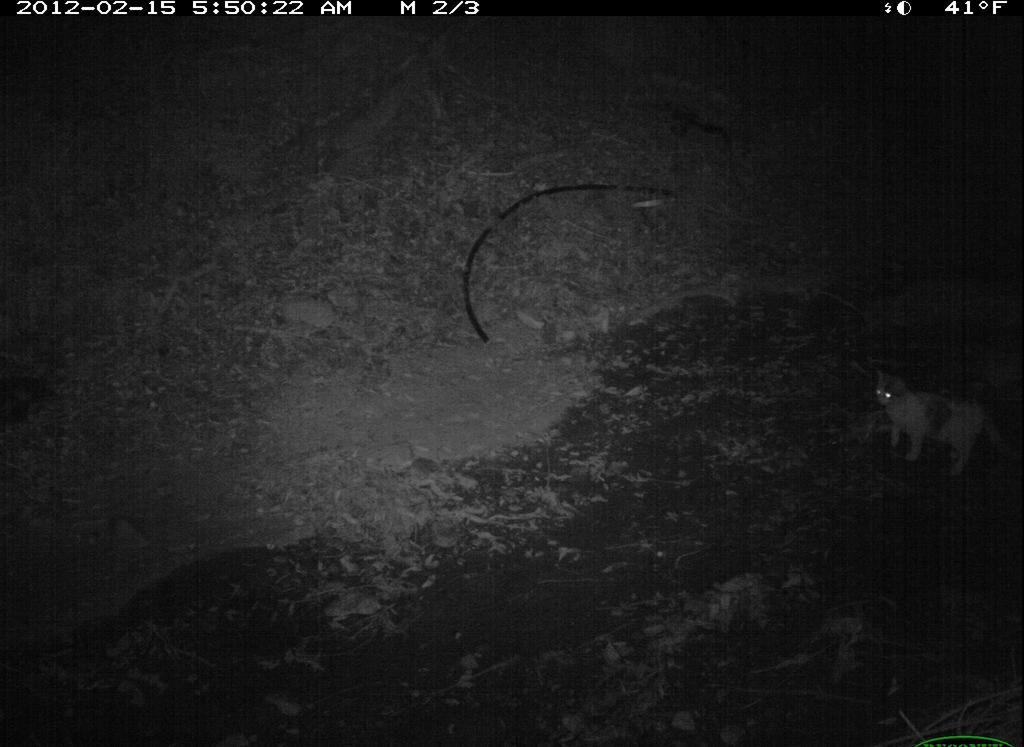cat: (871, 365, 1023, 483)
